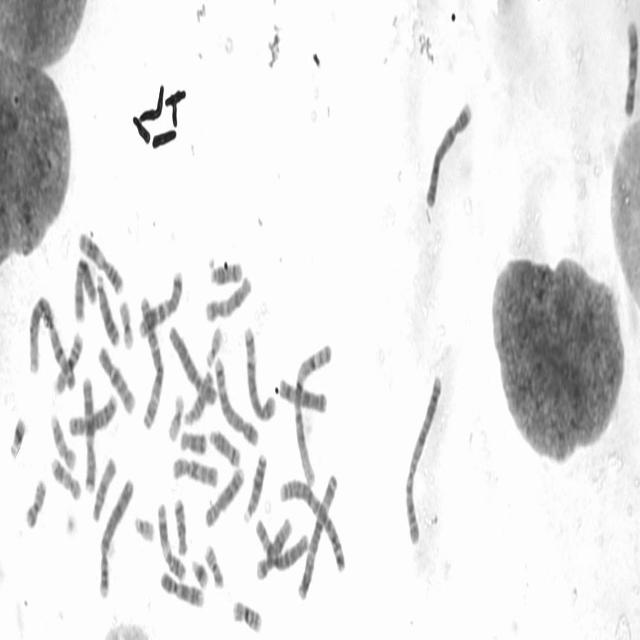A1: (292, 338, 332, 490), (26, 292, 77, 394)
A2: (402, 370, 443, 546), (277, 474, 346, 574)
A3: (293, 469, 340, 599), (137, 291, 165, 432)
B4: (424, 96, 473, 211), (96, 473, 134, 600)
B5: (213, 351, 260, 448), (242, 320, 276, 423)
C10: (96, 340, 136, 418), (171, 454, 219, 489)
C11: (76, 227, 125, 296), (155, 498, 187, 582)
C12: (254, 513, 293, 581), (204, 272, 252, 323)
C6: (166, 321, 217, 407), (252, 514, 309, 576)
C7: (136, 264, 184, 338), (81, 371, 96, 495)
C8: (203, 463, 245, 530), (66, 390, 118, 439)
C9: (159, 568, 205, 610), (621, 17, 639, 119)
D13: (241, 448, 268, 524), (94, 270, 120, 348)
D14: (207, 426, 241, 468), (206, 254, 242, 287)
D15: (181, 365, 216, 428), (90, 453, 117, 524)
E16: (52, 329, 84, 395), (230, 596, 262, 634)
E17: (49, 410, 77, 471), (50, 452, 82, 503)
E18: (172, 493, 188, 557), (178, 427, 207, 457)
F19: (165, 390, 185, 443), (117, 296, 135, 351)
F20: (23, 474, 48, 532), (202, 540, 225, 590)
G21: (8, 412, 28, 460), (190, 556, 209, 589)
G22: (204, 322, 224, 368), (132, 511, 156, 544)
X: (277, 374, 328, 414), (72, 253, 97, 323)
